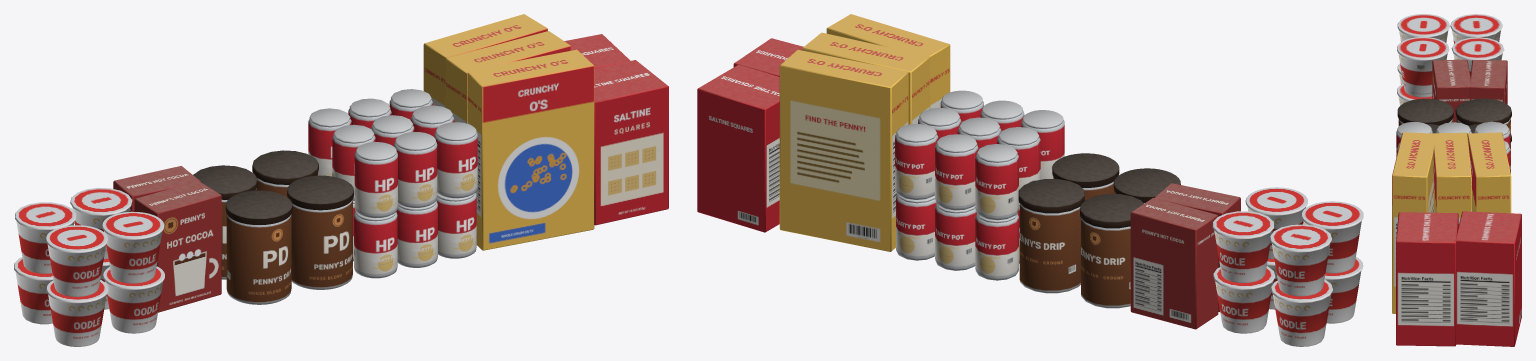
Rendered from SM_Stock_ShelfRow_Grocery.glb.
3 renders of one model, left to right at view 1: azimuth 30°, elevation 25°; view 2: azimuth 150°, elevation 25°; view 3: azimuth 270°, elevation 25°, orthographic. The views are drawn at different scales.
Parts seen in each view (by area): view 1: SM_Stock_ShelfRow_Grocery; view 2: SM_Stock_ShelfRow_Grocery; view 3: SM_Stock_ShelfRow_Grocery.
Boxes of the visible parts, box(x1,y1,x2,y2) form: SM_Stock_ShelfRow_Grocery: box(14, 14, 668, 346); SM_Stock_ShelfRow_Grocery: box(697, 14, 1363, 346); SM_Stock_ShelfRow_Grocery: box(1392, 14, 1521, 346).
Size of the model in its own units: 1.08 by 0.28 by 0.2376.
Materials: 1 (1 with a texture image).
